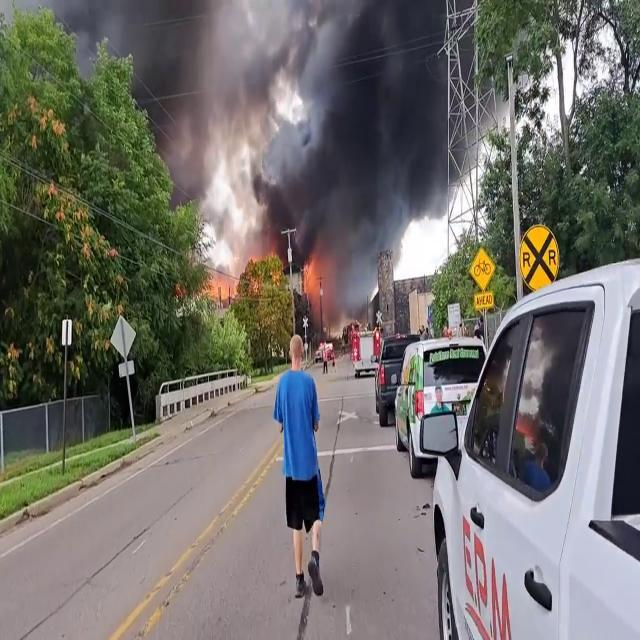Fire: (300, 250, 326, 302)
Smoke: (238, 0, 448, 262), (109, 0, 257, 247)
